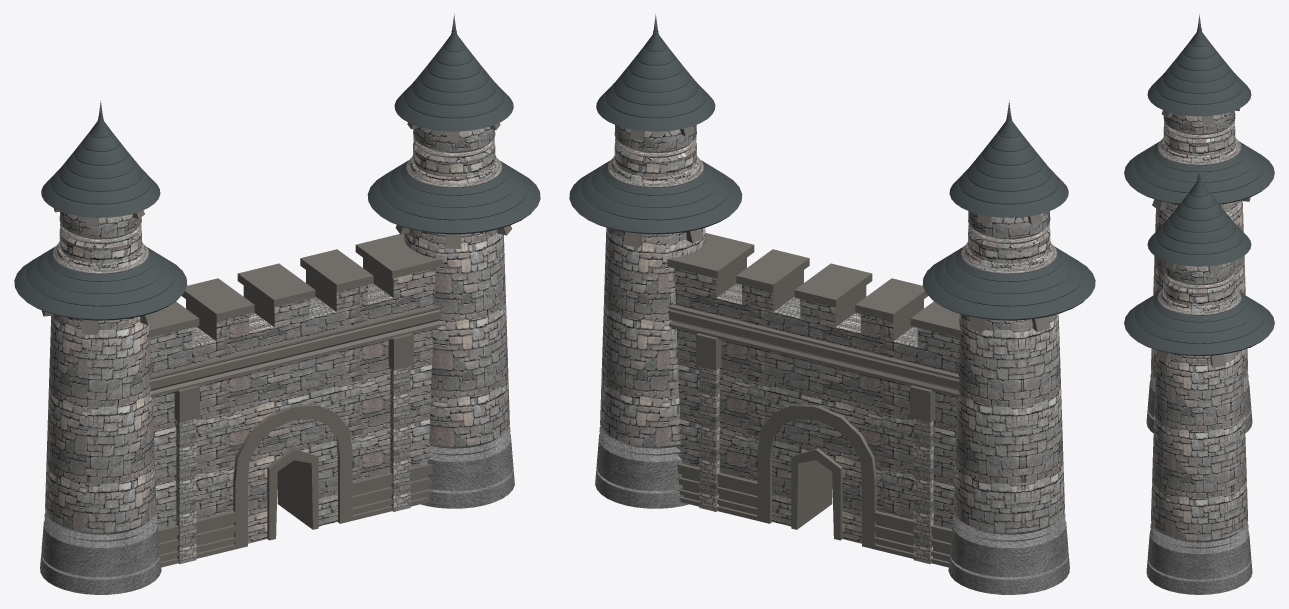
File: Castle Gate.fbx
The picture shows the model from 3 angles, left to right: view 1: azimuth 30°, elevation 25°; view 2: azimuth 150°, elevation 25°; view 3: azimuth 270°, elevation 25°; orthographic projection. The views are drawn at different scales.
Parts seen in each view (by area): view 1: Tower, Wall, Roof, Design, Door, Angle; view 2: Tower, Wall, Roof, Design, Door, Angle; view 3: Tower, Roof, Angle.
Part boxes in pixels (box(x1,y1,x2,y2)): Tower: box(40, 126, 514, 594); Wall: box(148, 234, 442, 543); Roof: box(14, 14, 540, 320); Design: box(150, 305, 441, 567); Door: box(267, 448, 318, 540); Angle: box(42, 122, 511, 335); Tower: box(595, 125, 1069, 594); Wall: box(667, 233, 961, 543); Roof: box(569, 14, 1095, 320); Design: box(668, 305, 959, 567); Door: box(791, 448, 842, 540); Angle: box(597, 126, 1050, 332); Tower: box(1146, 110, 1252, 594); Roof: box(1124, 14, 1274, 355); Angle: box(1152, 108, 1250, 367).
Size of the model in its own units: 1201 by 1070 by 358.
4 materials, 4 textured.
